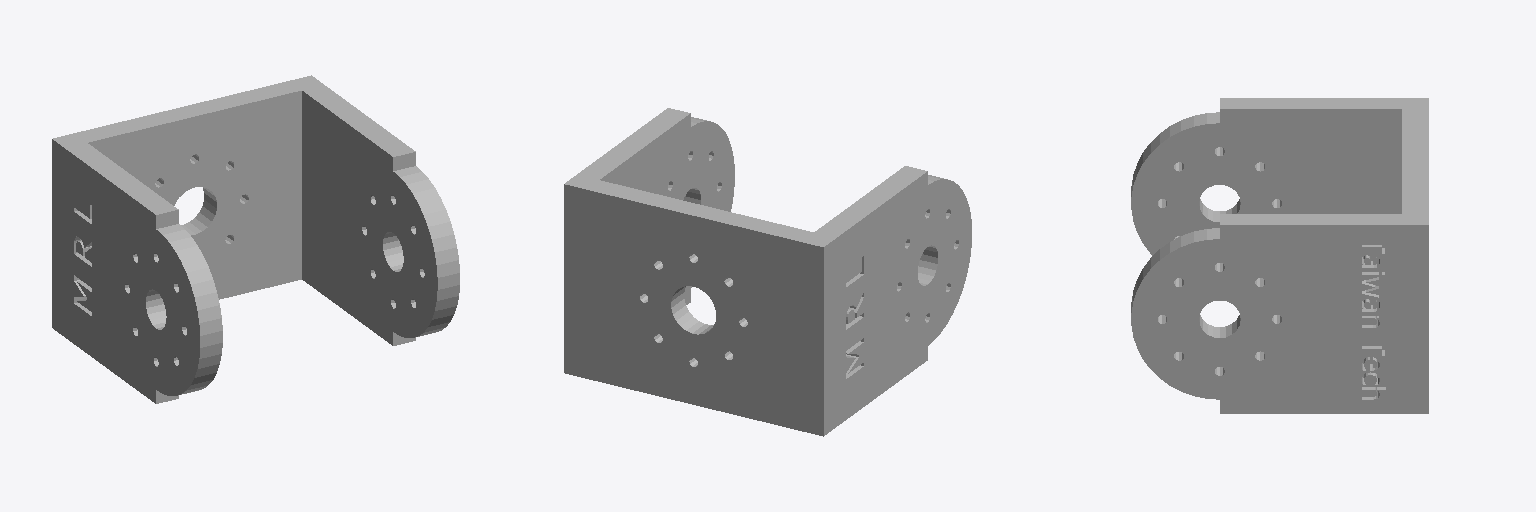
The model's file is ArmConnector.obj.
The picture shows the model from 3 angles: view 1: azimuth 30°, elevation 25°; view 2: azimuth 150°, elevation 25°; view 3: azimuth 270°, elevation 25°; orthographic projection.
Size of the model in its own units: 5.75 by 4 by 5.7.